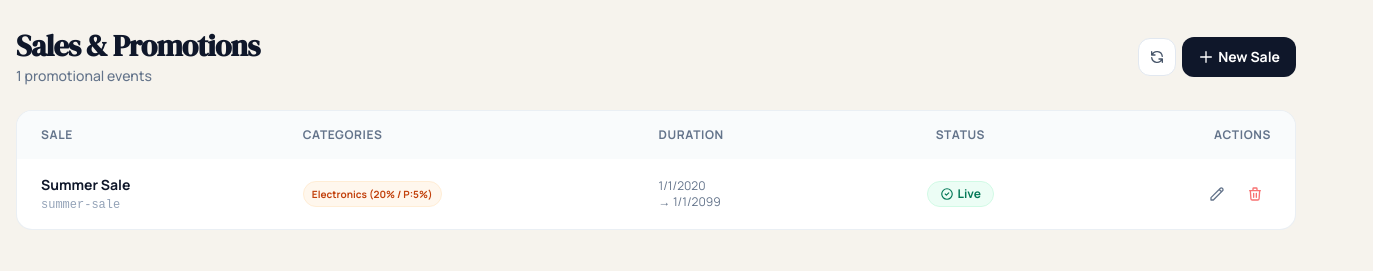
Test: AdminSales Component › deletes a sale after confirmation
This screenshot has width=1373, height=271.
Click the 4th button: (1255, 194) [1239, 178, 1271, 210]
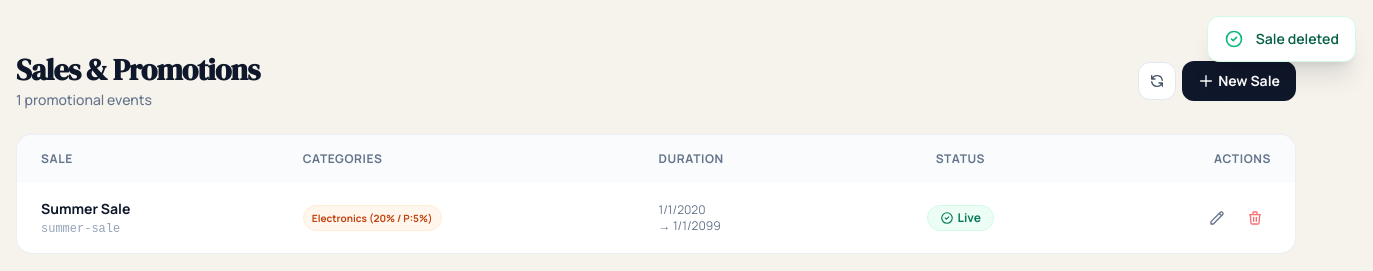
Expected: the text "Sale deleted" is shown, [1256, 29, 1339, 49]
